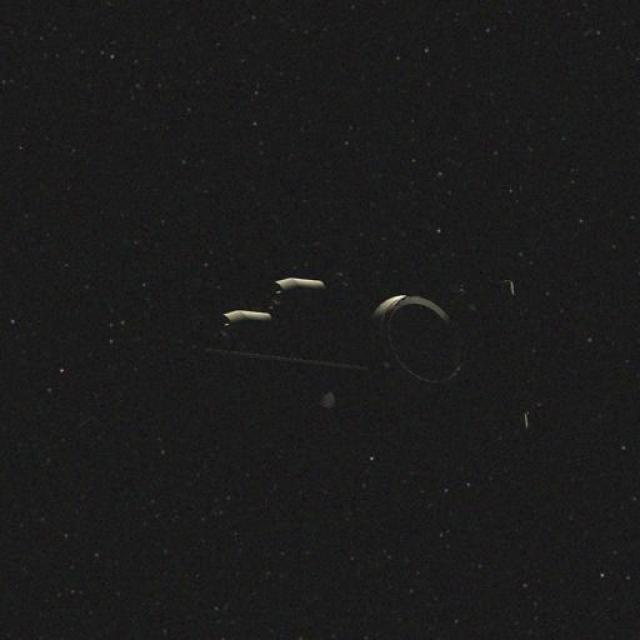proba_3_csc: (113, 232, 559, 460)
